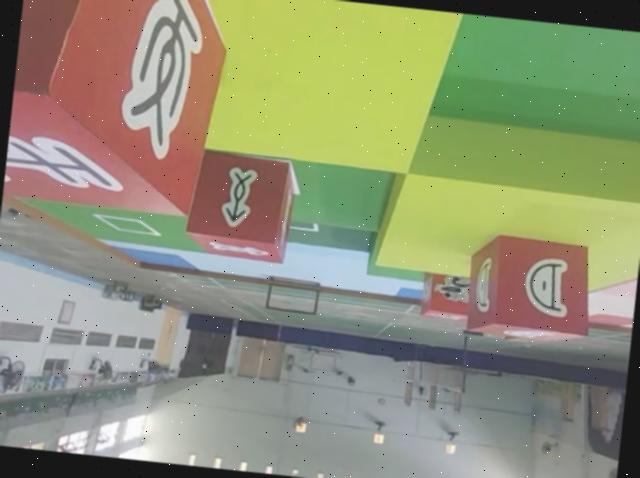R1: (417, 268, 482, 326)
R2 Fake: (1, 0, 233, 228)
R2 Real: (461, 228, 599, 351), (184, 149, 301, 267)
